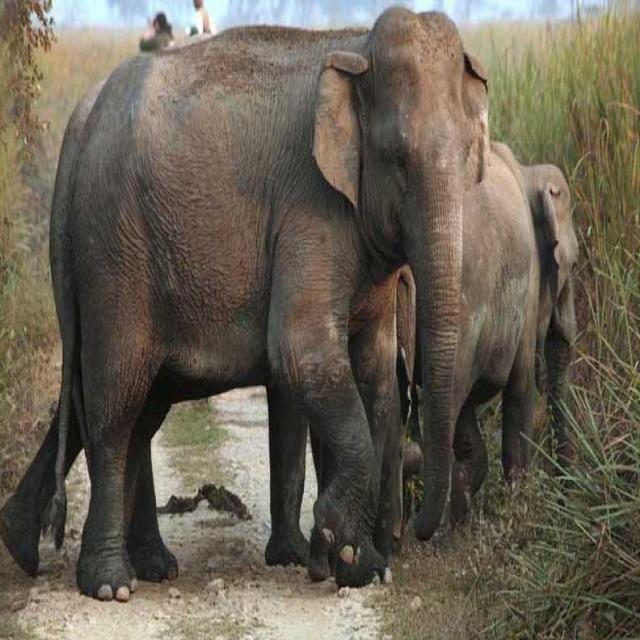Elephant: (14, 8, 486, 588)
